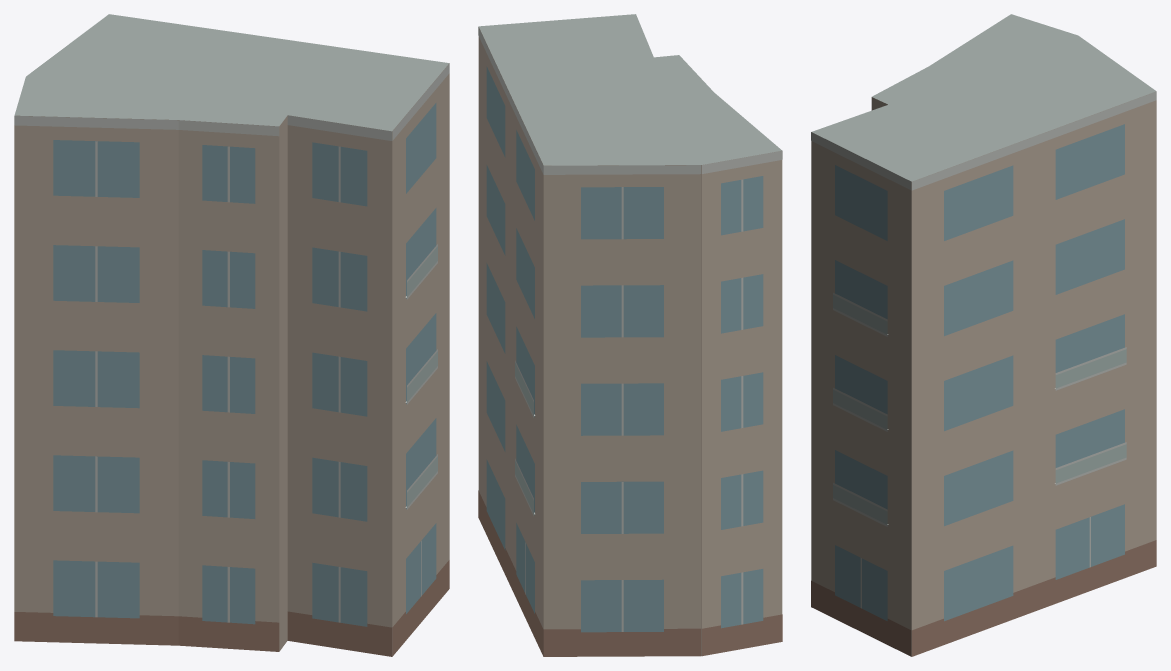
Rendered from survey-upis-32988176.glb.
3 views of the same model, side by side, from view 1: azimuth 30°, elevation 25°; view 2: azimuth 150°, elevation 25°; view 3: azimuth 270°, elevation 25° (orthographic). The views are drawn at different scales.
Visible parts, largest first — view 1: survey-upis-32988176.tmp; view 2: survey-upis-32988176.tmp; view 3: survey-upis-32988176.tmp.
Boxes of the visible parts, box(x1,y1,x2,y2) form: survey-upis-32988176.tmp: box(14, 14, 449, 656); survey-upis-32988176.tmp: box(478, 14, 782, 656); survey-upis-32988176.tmp: box(811, 14, 1156, 656).
Bounding box in the file's own units: 9.85 × 13 × 8.57.
